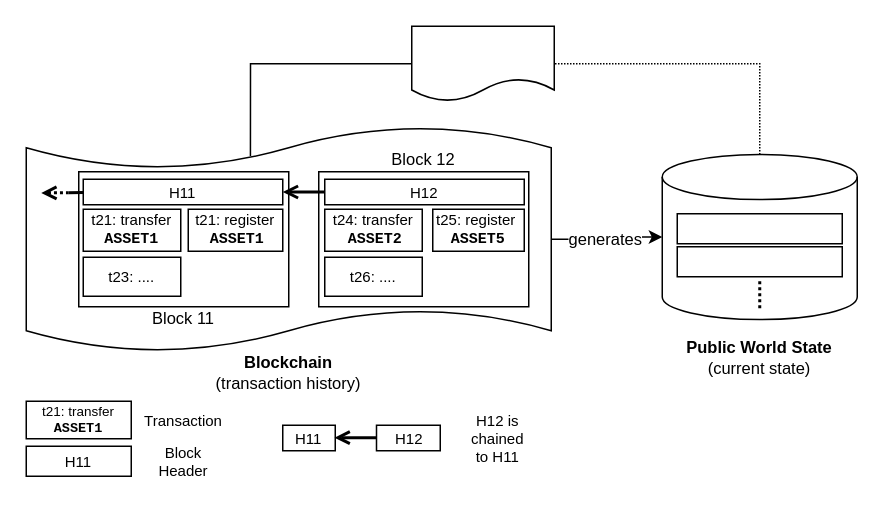
Image size: 884x506. Some labels were removed from this diagram. The shapes that lost their labels are listed below. From the top down, each one's box as (x1, y1, x2, y2) in pixels, then its label:
(410, 25, 554, 101): LEDGER
(676, 212, 842, 244): ASSET1: {...}
(676, 245, 842, 277): ASSET2: {...}
